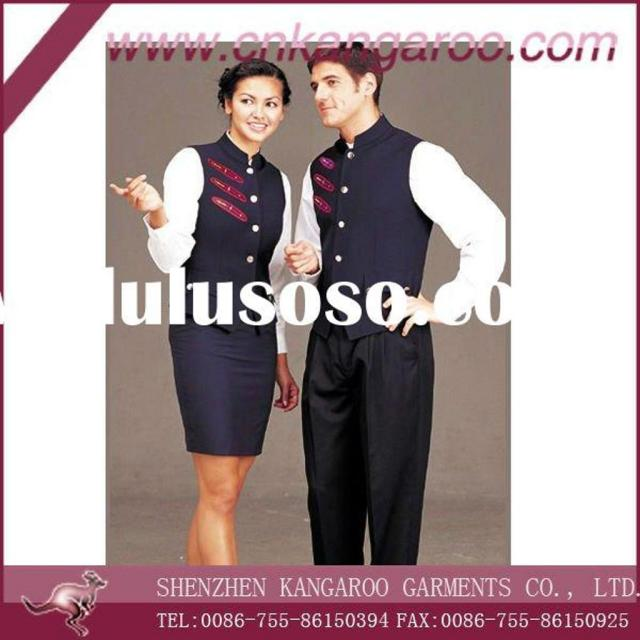nomask: (311, 60, 364, 126), (230, 76, 282, 142)
